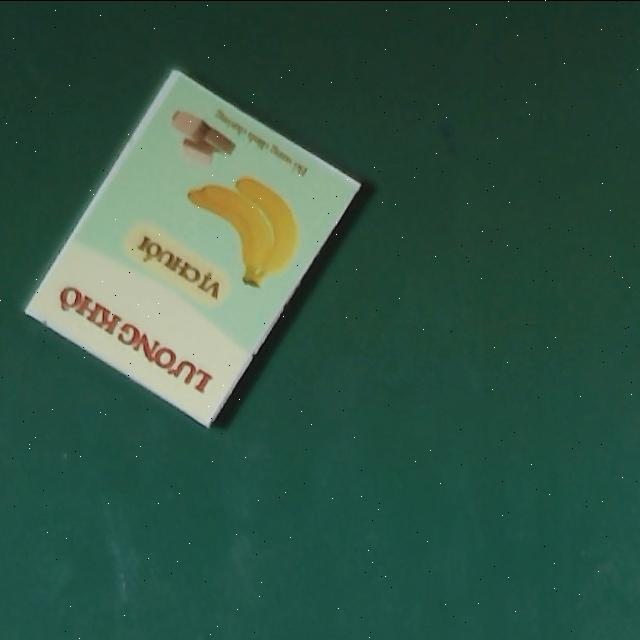chuoi: (22, 67, 363, 429)
